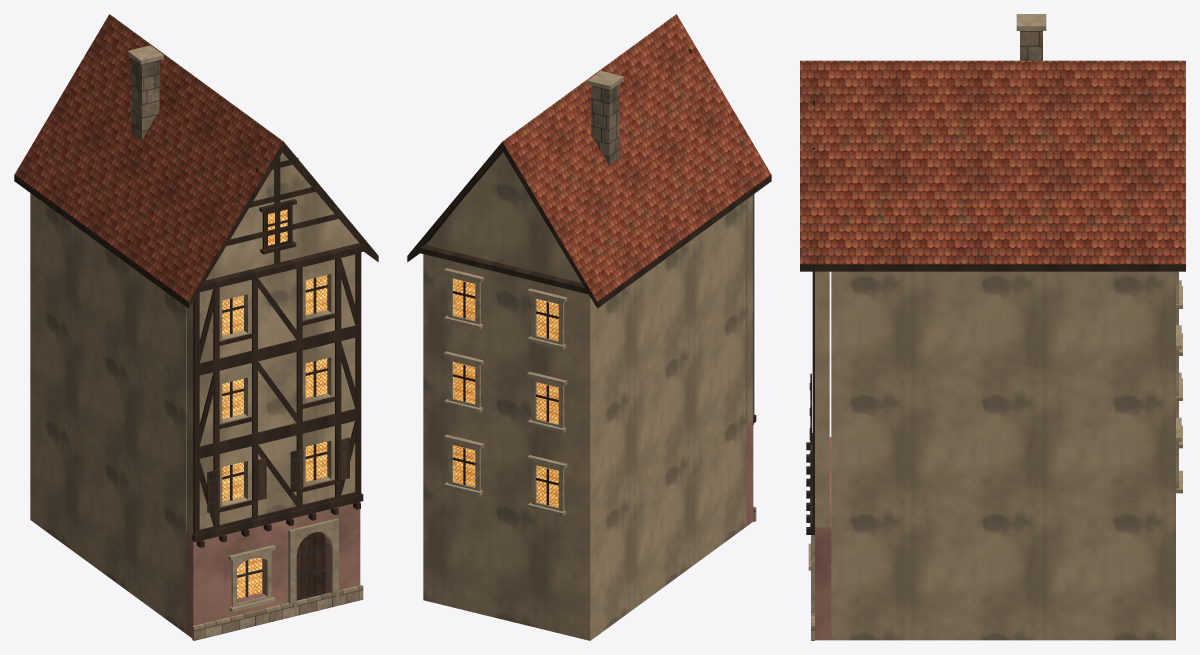
File: house_timber_c.gltf
The picture shows the model from 3 angles, left to right: view 1: azimuth 30°, elevation 25°; view 2: azimuth 150°, elevation 25°; view 3: azimuth 270°, elevation 25°; orthographic projection. The views are drawn at different scales.
Visible parts, largest first — view 1: house_timber_c_mesh, INT_door_house_timber_c, INT_window_house_timber_c_1, INT_window_house_timber_c_0, INT_window_house_timber_c_0_shutter_R, INT_window_house_timber_c_1_shutter_L, INT_window_house_timber_c_1_shutter_R, INT_window_house_timber_c_0_shutter_L; view 2: house_timber_c_mesh; view 3: house_timber_c_mesh.
Boxes of the visible parts, left/top/right/bottom form: house_timber_c_mesh: left=14, top=14, right=378, bottom=640; INT_door_house_timber_c: left=296, top=532, right=325, bottom=600; INT_window_house_timber_c_1: left=305, top=441, right=327, bottom=481; INT_window_house_timber_c_0: left=222, top=462, right=244, bottom=501; INT_window_house_timber_c_0_shutter_R: left=253, top=458, right=266, bottom=501; INT_window_house_timber_c_1_shutter_L: left=290, top=449, right=303, bottom=492; INT_window_house_timber_c_1_shutter_R: left=337, top=437, right=349, bottom=480; INT_window_house_timber_c_0_shutter_L: left=207, top=469, right=219, bottom=512; house_timber_c_mesh: left=407, top=14, right=771, bottom=640; house_timber_c_mesh: left=800, top=14, right=1185, bottom=640.
Size of what is drawn, in the model's own units: 7.4 by 18.71 by 11.75.
Materials: 11 (11 with a texture image).
